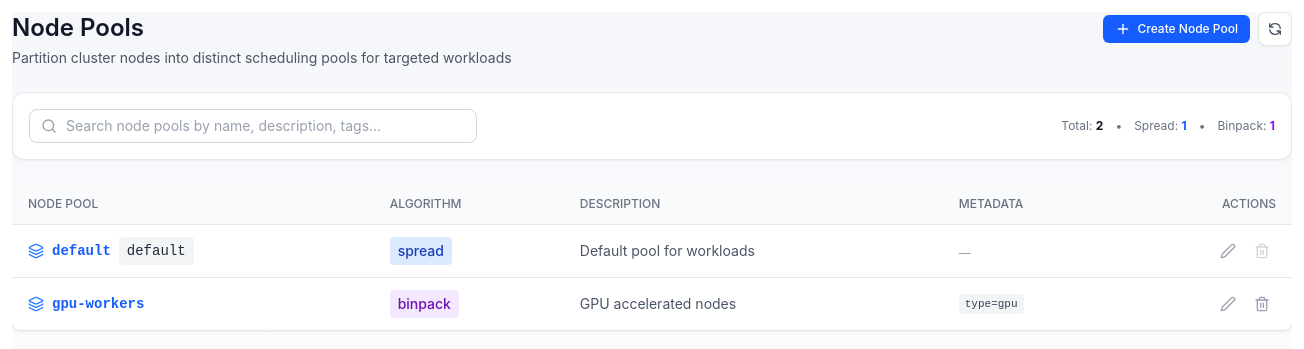
Scenario: NodePoolsPage › filters node pools by search query
Type "gpu" into the field with placeholder "Search node pools by name, description, tags...".
click(253, 126); type("gpu")  # box [29,109,477,143]
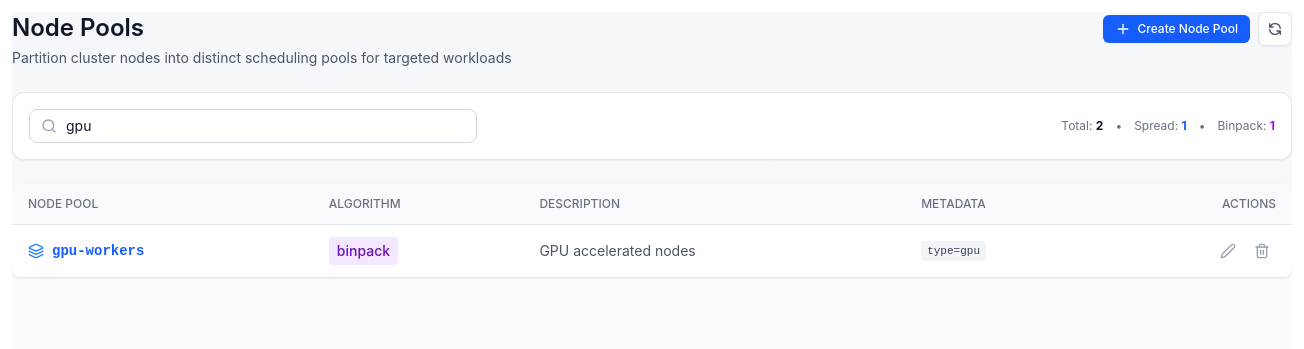
Check: no buttons "default" are shown
